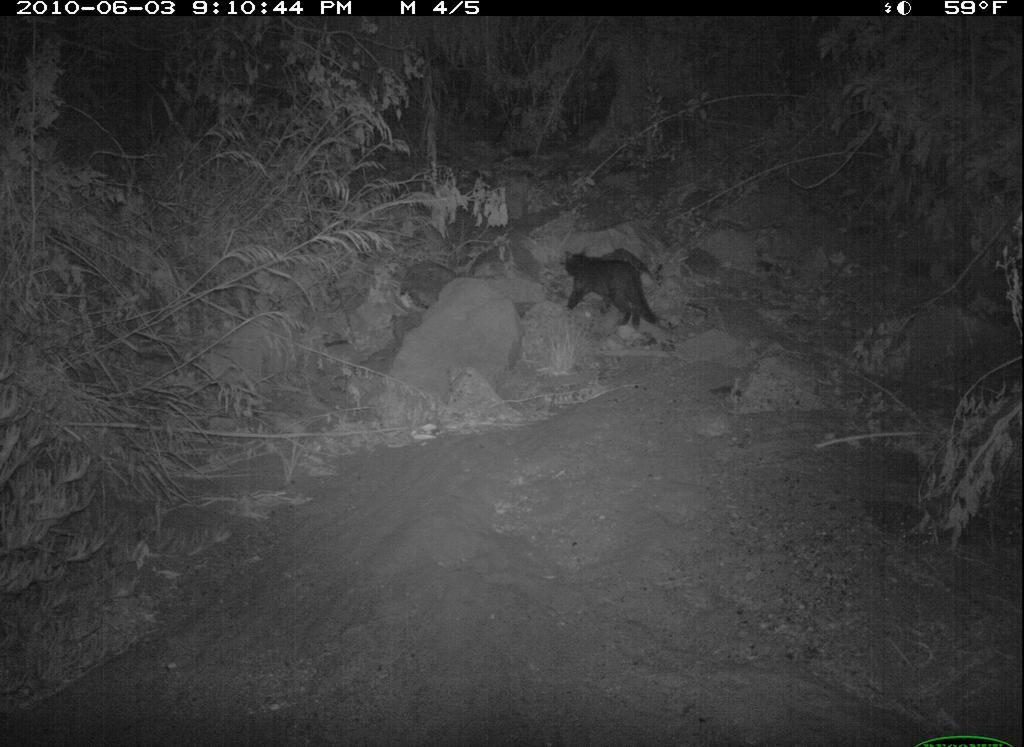cat: (551, 244, 669, 338)
